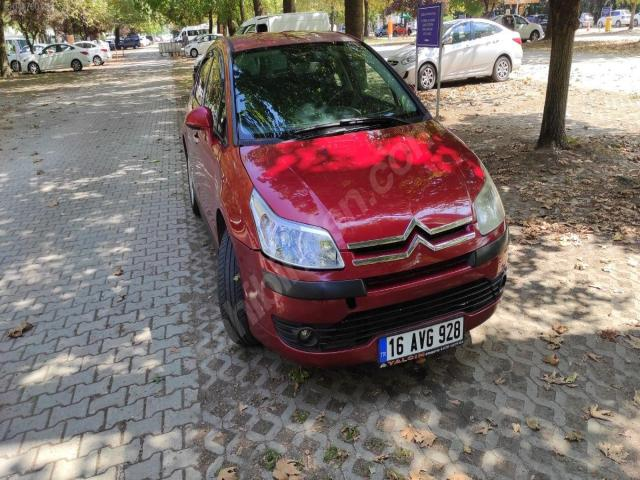plaka: (379, 316, 464, 365)
